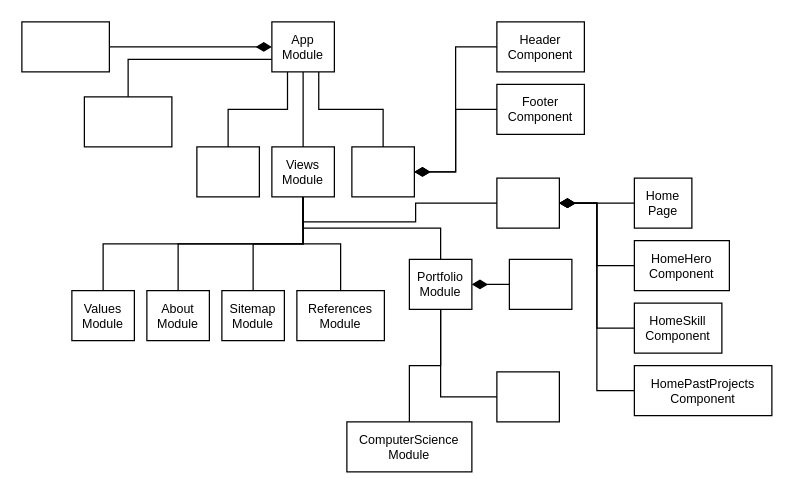
This 794x494 diagram has some shape labels left out. Here are the shapes that lost their labels. From the top down, the box of each, then its label:
(21, 21, 109, 72): App Component
(83, 96, 172, 147): AppRouting Module
(196, 146, 259, 197): Core Module
(351, 146, 414, 197): Shared Module
(496, 177, 559, 228): Home Module
(508, 258, 572, 309): Portfolio Page
(496, 371, 559, 422): FineArt Module
